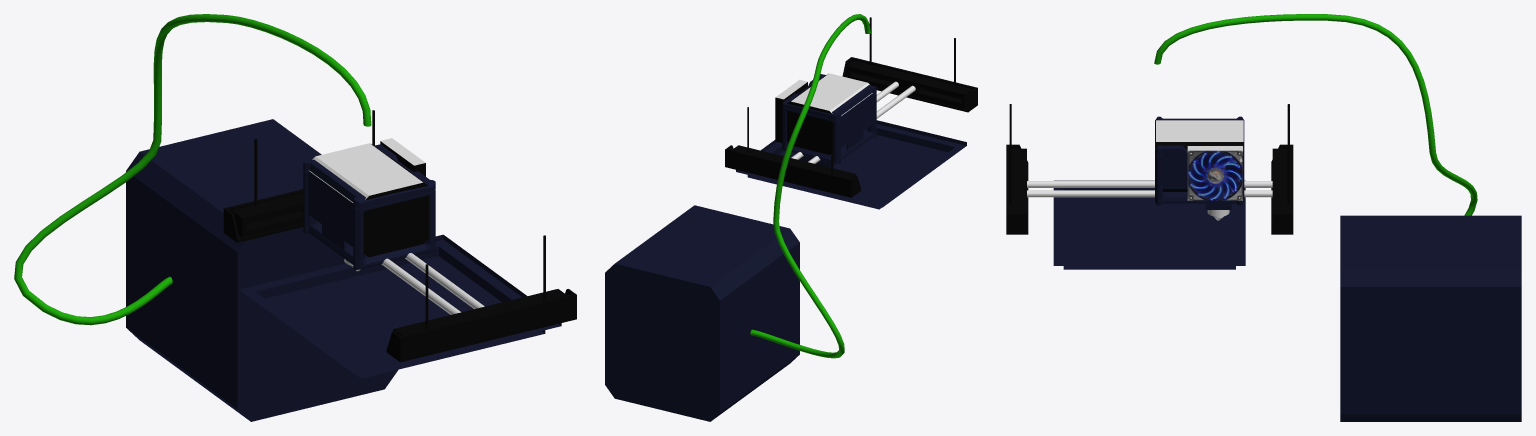
Rendered from impresora3D.fbx.
3 renders of one model, left to right at view 1: azimuth 30°, elevation 25°; view 2: azimuth 150°, elevation 25°; view 3: azimuth 270°, elevation 25°, orthographic. The views are drawn at different scales.
Visible parts, largest first — view 1: Cube.003, Plane, inyectora, Pala2, BezierCurve, Cube, Pala, Cylinder.002, Cylinder.003; view 2: Cube.003, Plane, inyectora, Pala2, Pala, BezierCurve, Cube, Cylinder.003; view 3: Cube.003, Plane, inyectora, BezierCurve, Pala, Pala2, Cube, Cylinder.002, Cylinder.003.
Boxes of the visible parts, x1=… form: Cube.003: x1=126, y1=119, x2=397, y2=421; Plane: x1=239, y1=234, x2=561, y2=378; inyectora: x1=308, y1=138, x2=434, y2=271; Pala2: x1=386, y1=235, x2=576, y2=362; BezierCurve: x1=14, y1=14, x2=371, y2=325; Cube: x1=303, y1=144, x2=435, y2=270; Pala: x1=223, y1=110, x2=374, y2=242; Cylinder.002: x1=405, y1=253, x2=484, y2=308; Cylinder.003: x1=381, y1=258, x2=460, y2=314; Cube.003: x1=605, y1=205, x2=799, y2=421; Plane: x1=736, y1=120, x2=966, y2=209; inyectora: x1=775, y1=73, x2=873, y2=167; Pala2: x1=842, y1=17, x2=977, y2=112; Pala: x1=725, y1=107, x2=861, y2=197; BezierCurve: x1=750, y1=14, x2=870, y2=358; Cube: x1=782, y1=74, x2=876, y2=164; Cylinder.003: x1=808, y1=85, x2=915, y2=163; Cube.003: x1=1340, y1=215, x2=1521, y2=421; Plane: x1=1053, y1=180, x2=1245, y2=269; inyectora: x1=1156, y1=120, x2=1243, y2=220; BezierCurve: x1=1154, y1=14, x2=1477, y2=215; Pala: x1=1271, y1=104, x2=1293, y2=234; Pala2: x1=1006, y1=104, x2=1028, y2=234; Cube: x1=1155, y1=116, x2=1244, y2=205; Cylinder.002: x1=1027, y1=190, x2=1272, y2=197; Cylinder.003: x1=1027, y1=181, x2=1272, y2=187.
Size of the model in its own units: 257 by 348 by 467.
Materials: 6 (2 with a texture image).
